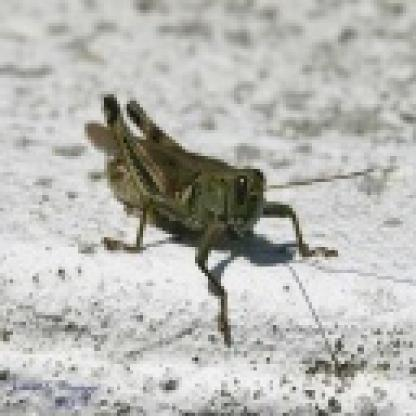grasshopper: (88, 91, 320, 309)
